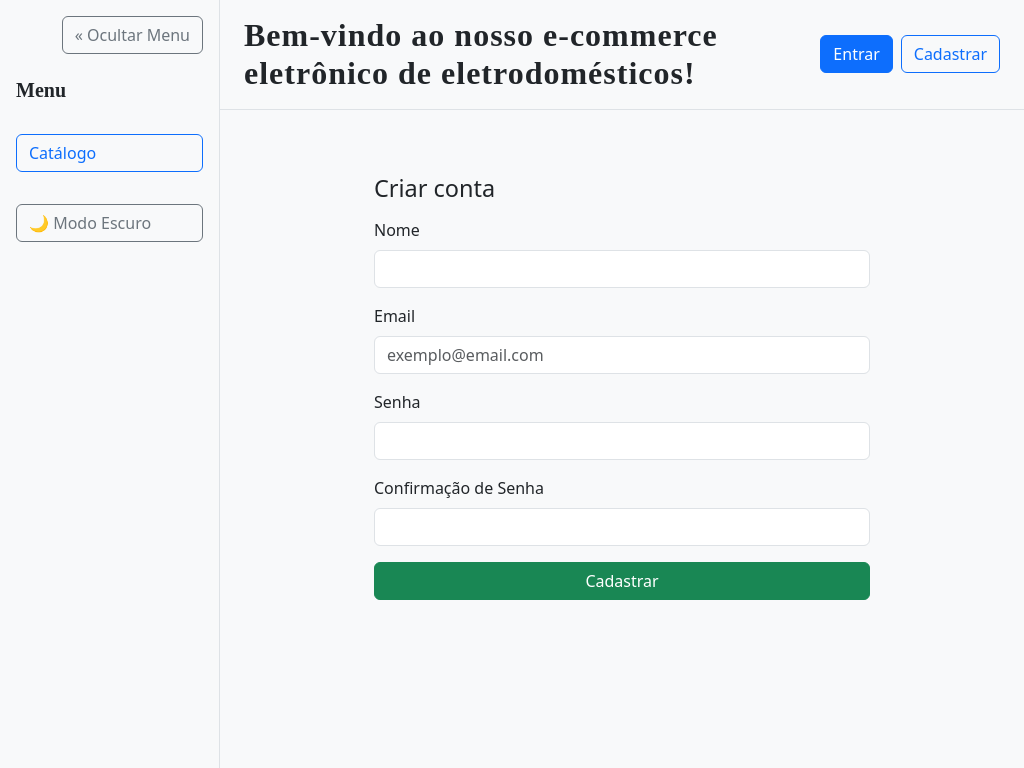
Test: Cadastro de Usuário › deve mostrar erro quando email já está cadastrado
The image size is (1024, 768).
In the field named "nome": (622, 269) [374,250,870,288], type "Edivaldo José dos Santos"
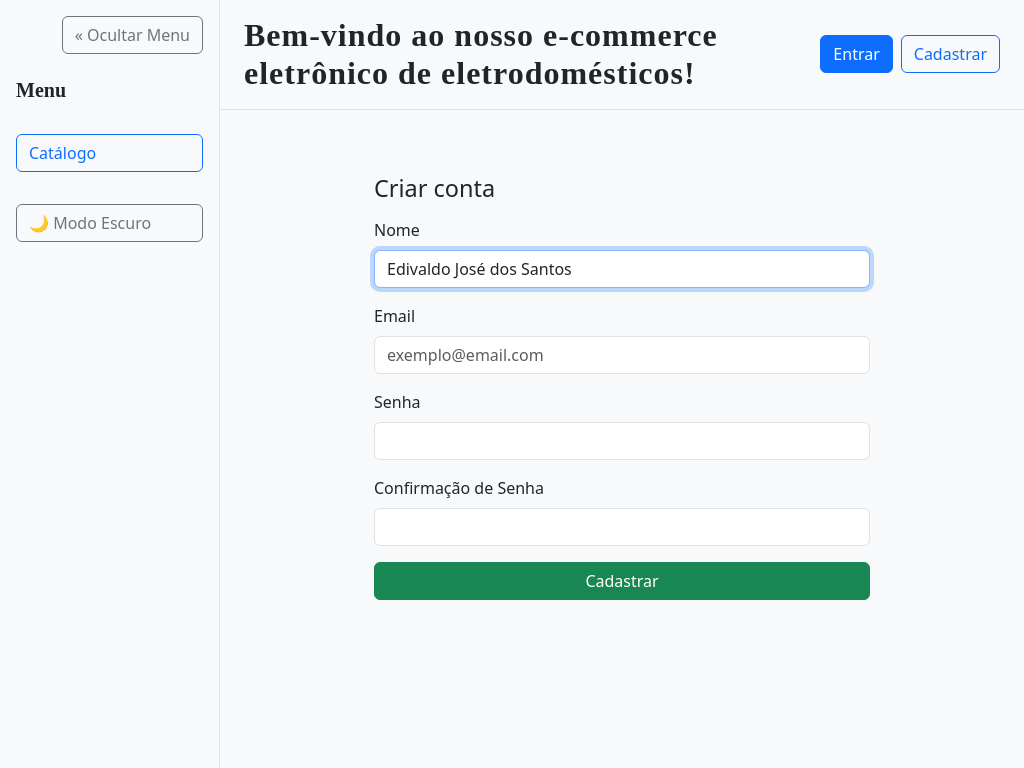
In the field named "email": (622, 355) [374,336,870,374], type "edivaldo@email.com"
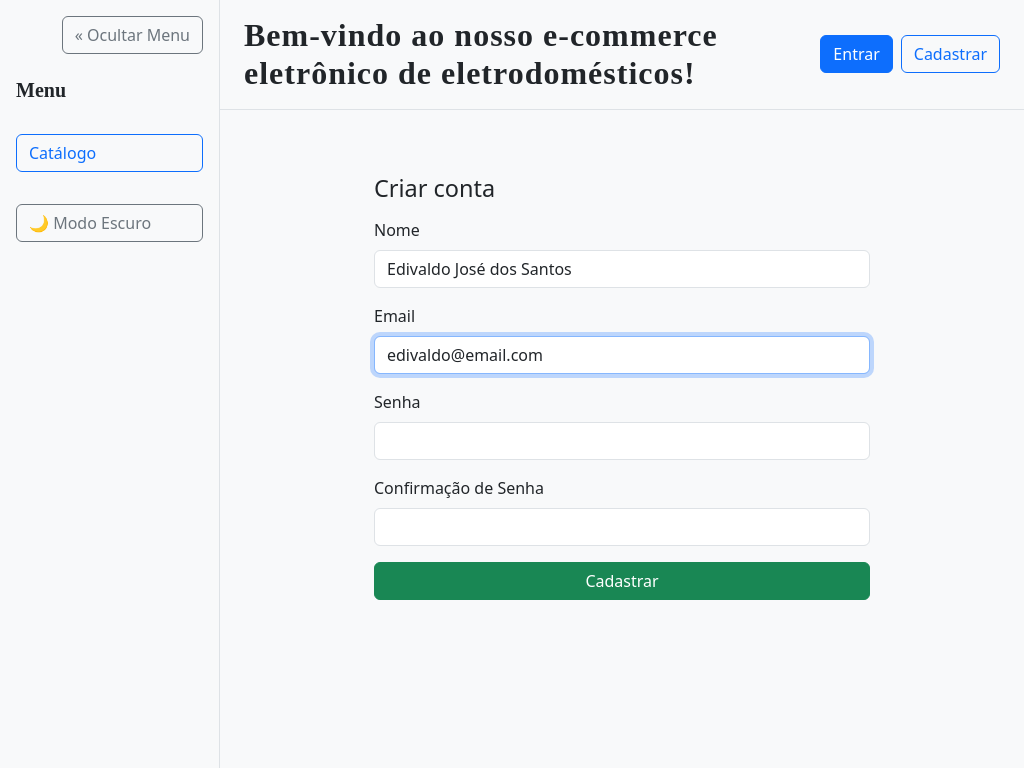
In the 1st password field named "senha": (622, 441) [374,422,870,460], type "senha123"
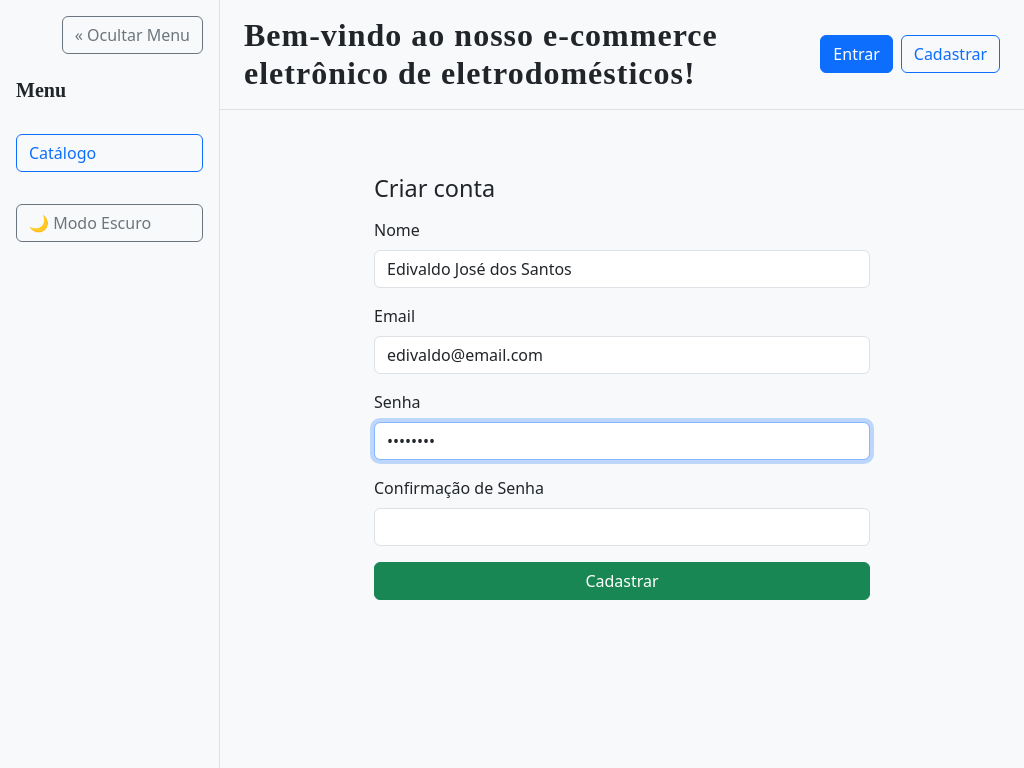
In the password field named "confirmacaoSenha" below "Confirmação de Senha": (622, 527) [374,508,870,546], type "senha123"
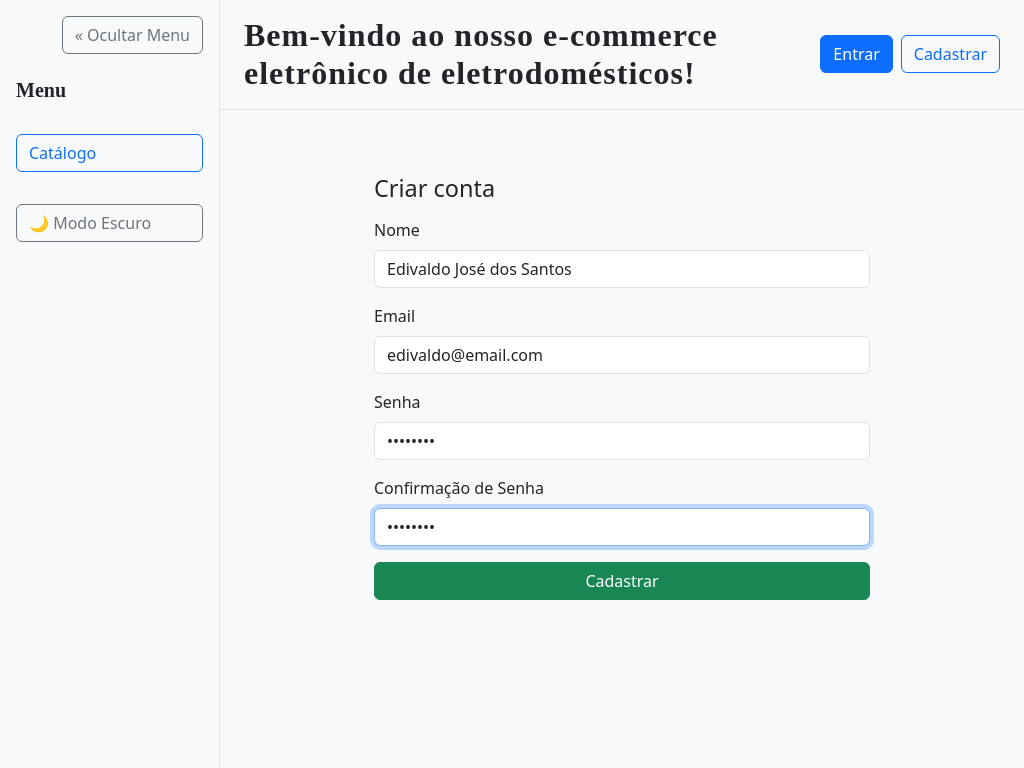
Click the button named "submit": click(622, 581) [374,562,870,600]
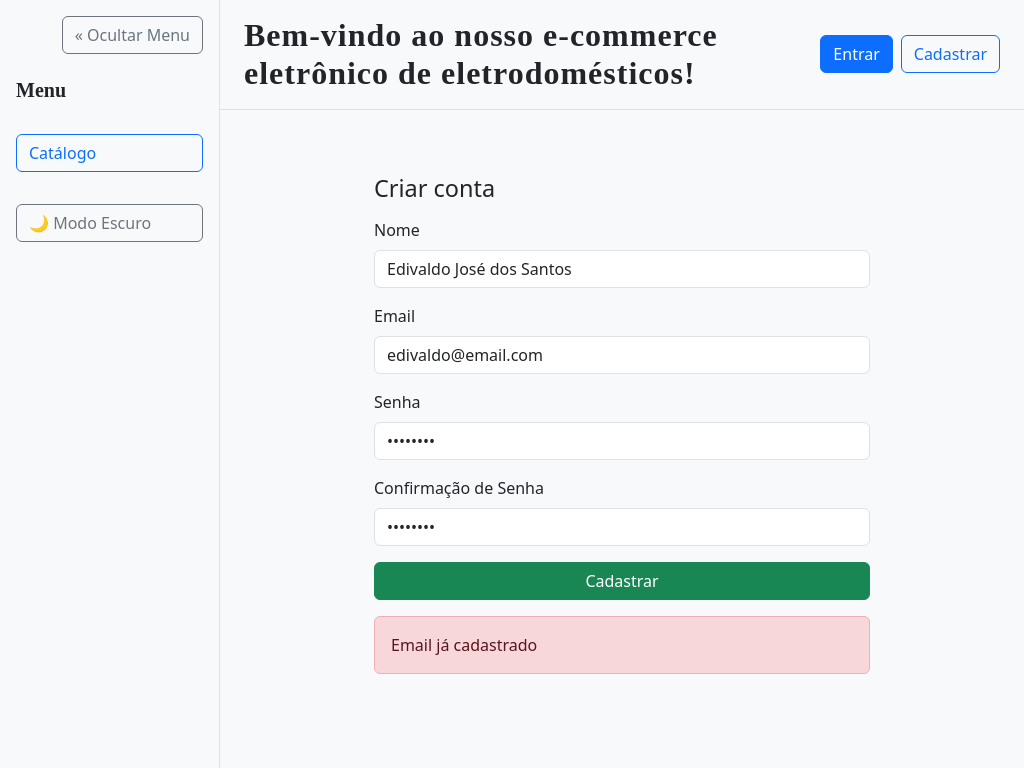
Check: the text "Email já cadastrado" is shown, box [374,616,870,674]
